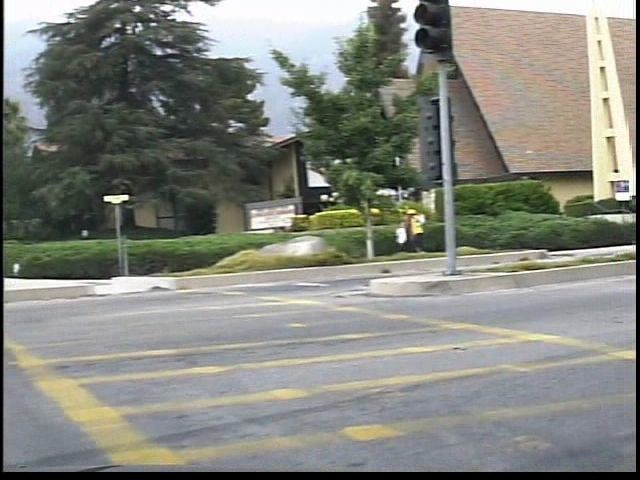person: (415, 202, 441, 256)
